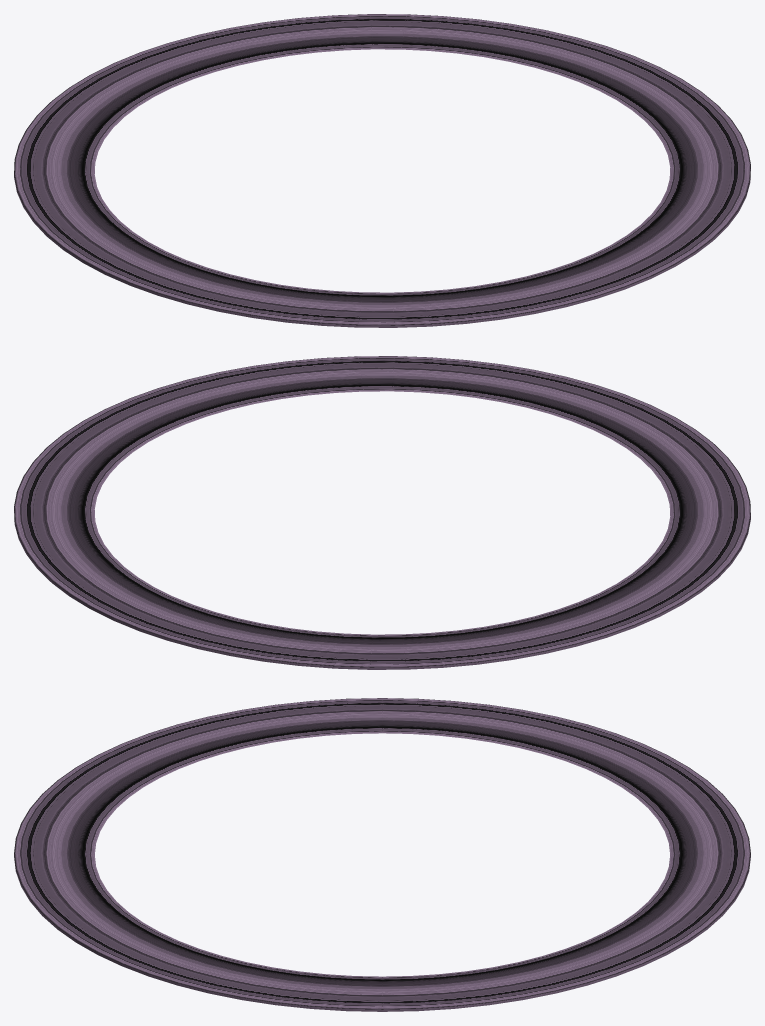
Rendered from PlanetRing.fbx.
The picture shows the model from 3 angles, top to bottom: view 1: azimuth 30°, elevation 25°; view 2: azimuth 150°, elevation 25°; view 3: azimuth 270°, elevation 25°; orthographic projection.
Visible parts, largest first — view 1: PlanetRing; view 2: PlanetRing; view 3: PlanetRing.
Boxes of the visible parts, bbox=[...] form: PlanetRing: bbox=[14, 14, 750, 327]; PlanetRing: bbox=[14, 356, 750, 669]; PlanetRing: bbox=[14, 698, 750, 1011].
Bounding box in the file's own units: 319 × 1.73 × 319.
